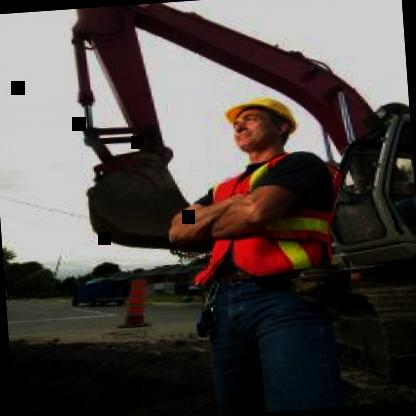helmet: (209, 76, 314, 174)
